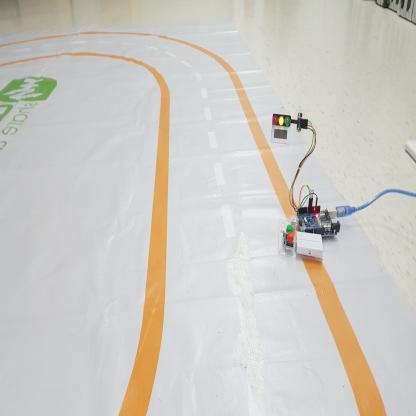traffic-light: (272, 111, 292, 130)
